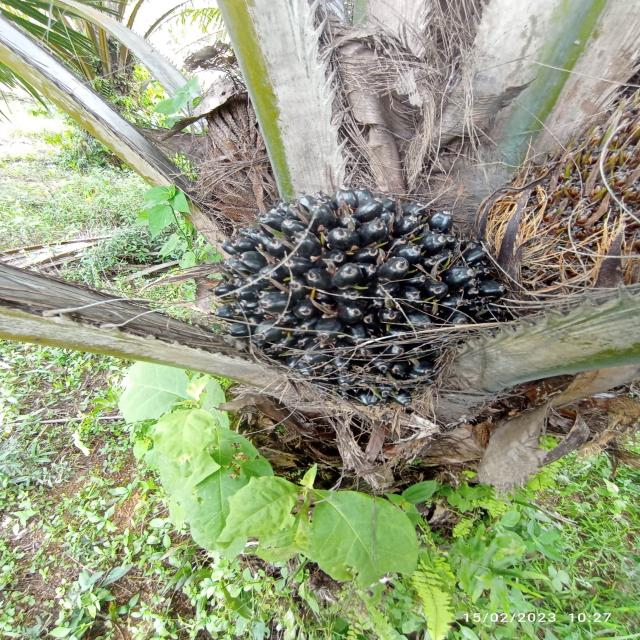fraksi 00: (212, 171, 518, 384)
